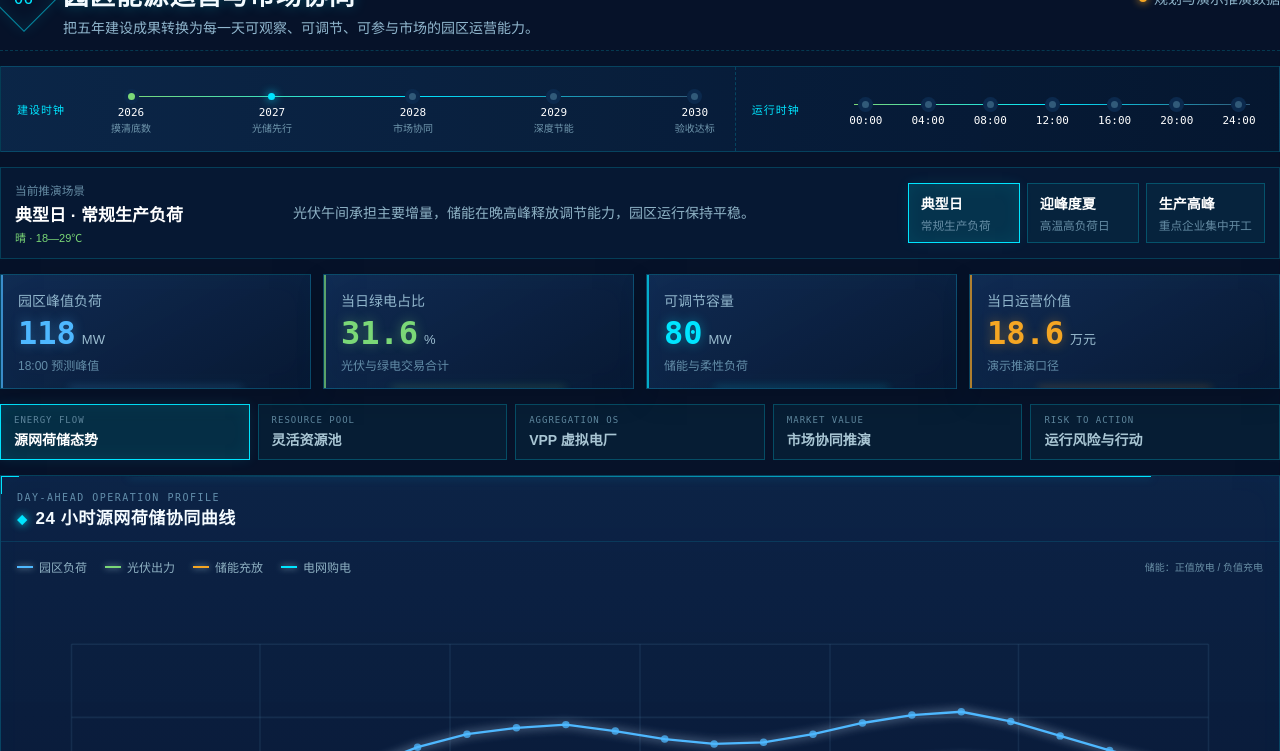
Test: OperationsPage › runs the six-stage VPP aggregation workflow
The width and height of the screenshot is (1280, 751).
Click the button "AGGREGATION OS VPP 虚拟电厂" at {"x": 640, "y": 432}, box top-left (515, 404), bottom-right (765, 460)
(page scrolled)
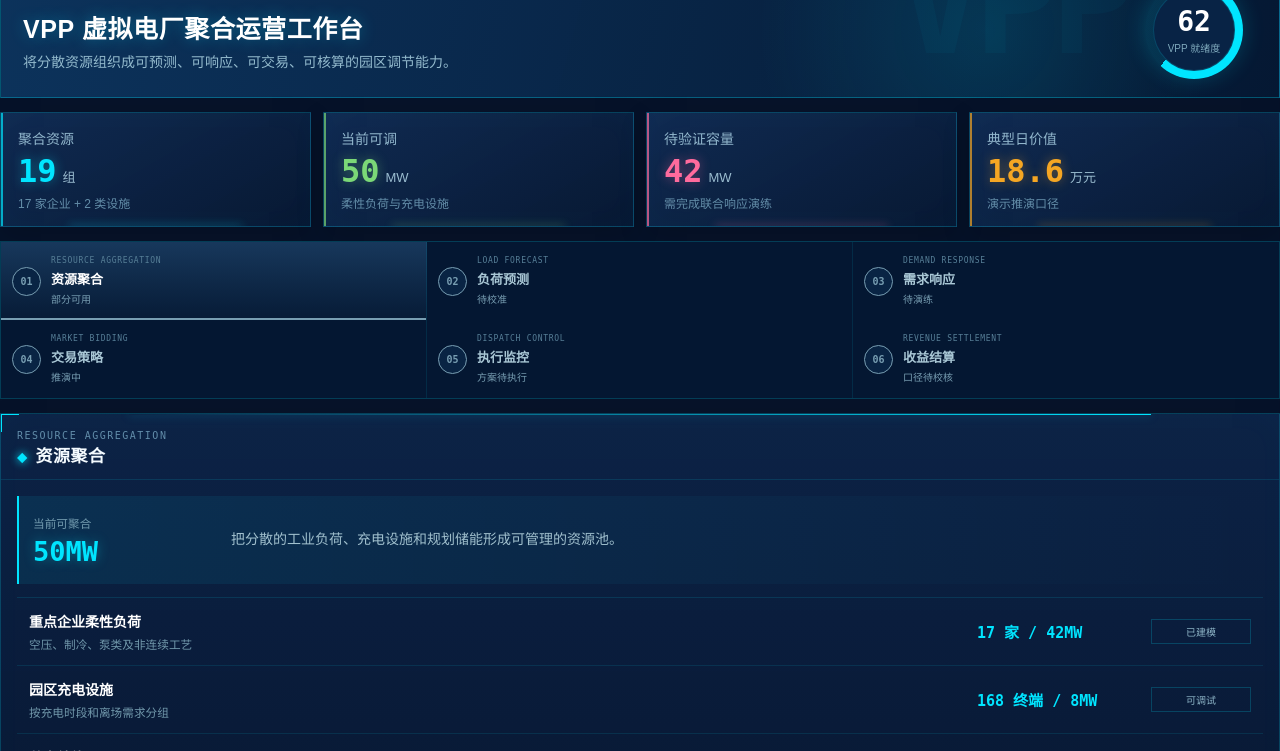
Expected: the element with test id "vpp-workbench" shows "VPP 虚拟电厂", top-left (23, 15), bottom-right (364, 43)
Click the button "04 MARKET BIDDING 交易策略 推演中" at {"x": 90, "y": 338}, box top-left (1, 320), bottom-right (427, 398)
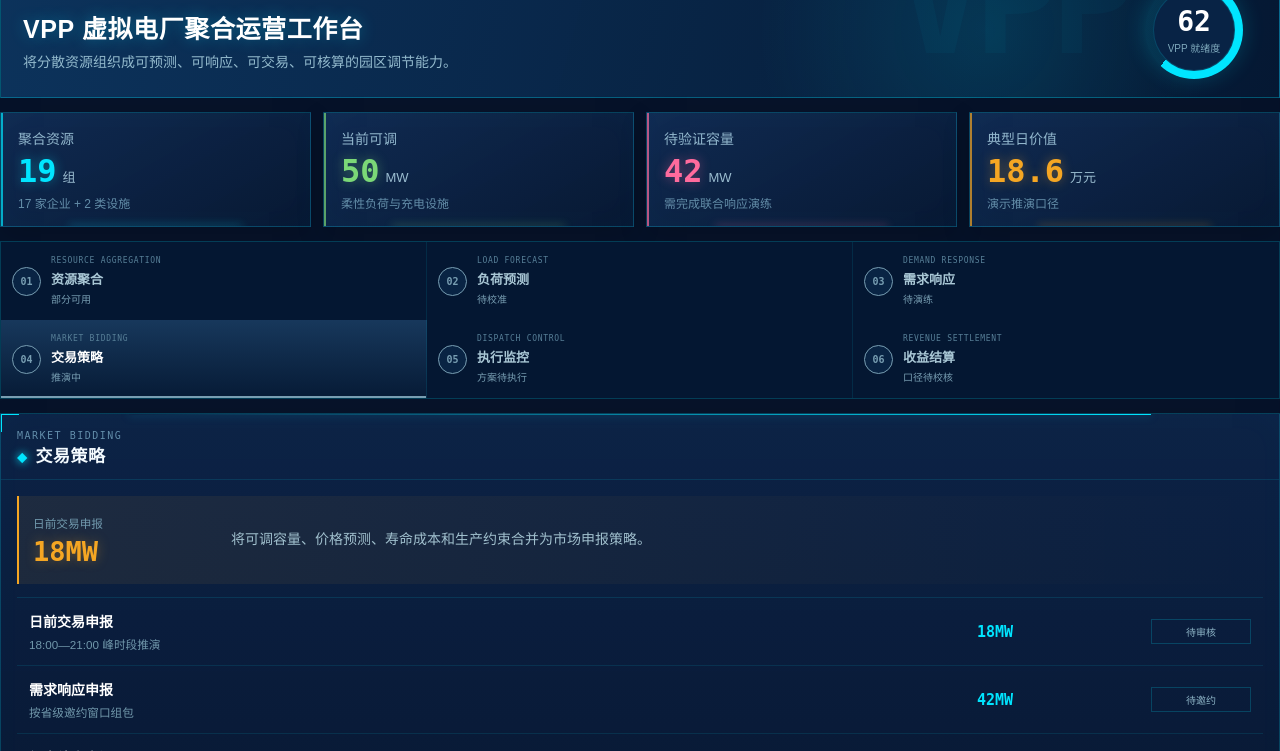
Expected: the element with test id "vpp-stage-detail" shows "日前交易申报", top-left (33, 516), bottom-right (103, 530)
Click the button "06 REVENUE SETTLEMENT 收益结算 口径待校核" at {"x": 953, "y": 338}, box top-left (853, 320), bottom-right (1279, 398)
(page scrolled)
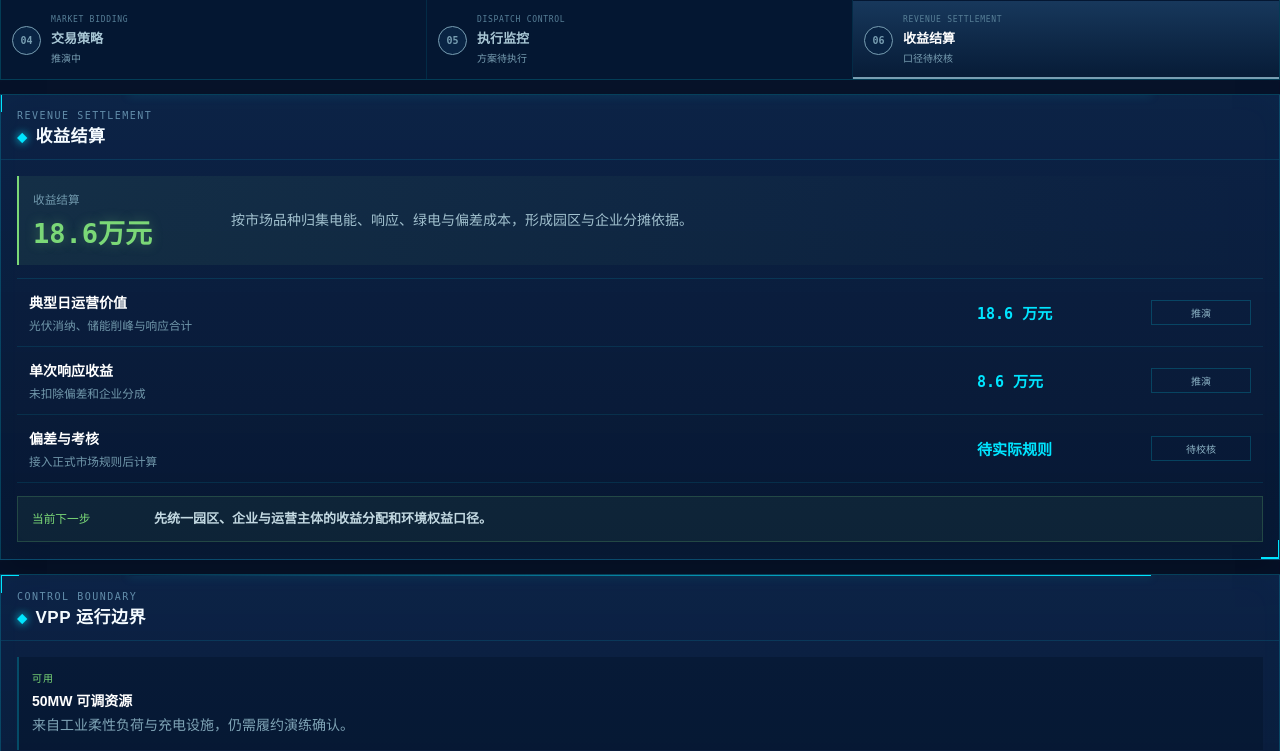
Expected: the element with test id "vpp-stage-detail" shows "收益结算", top-left (33, 193), bottom-right (80, 206)
